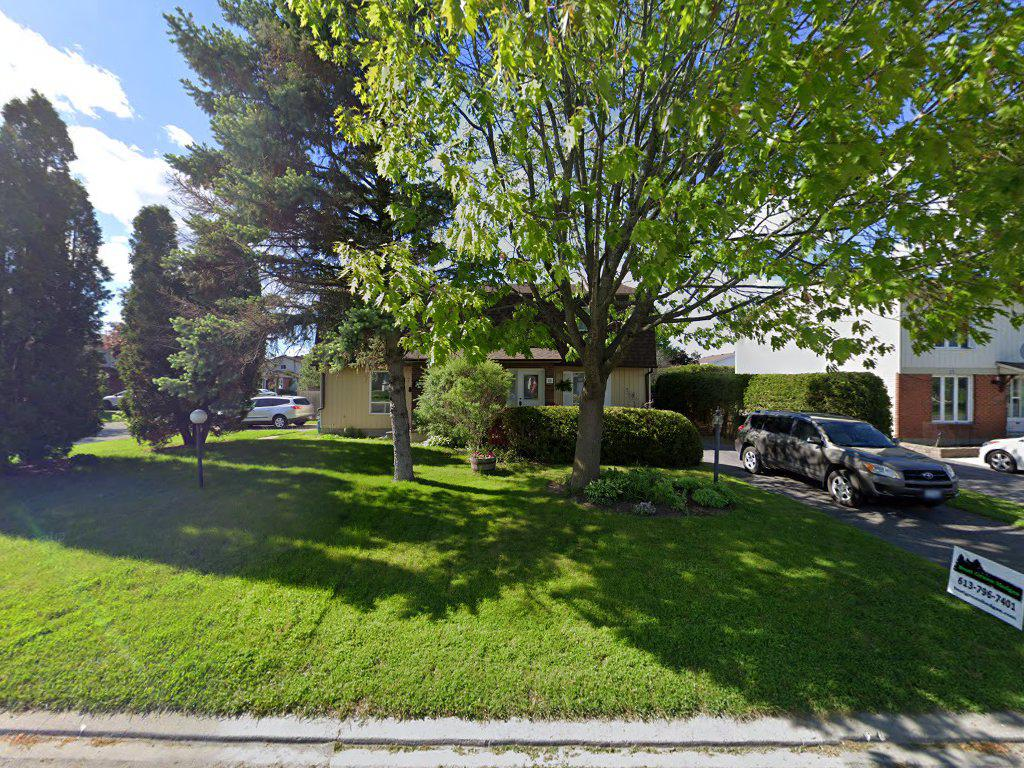trunk: (562, 296, 610, 514), (376, 322, 425, 503)
